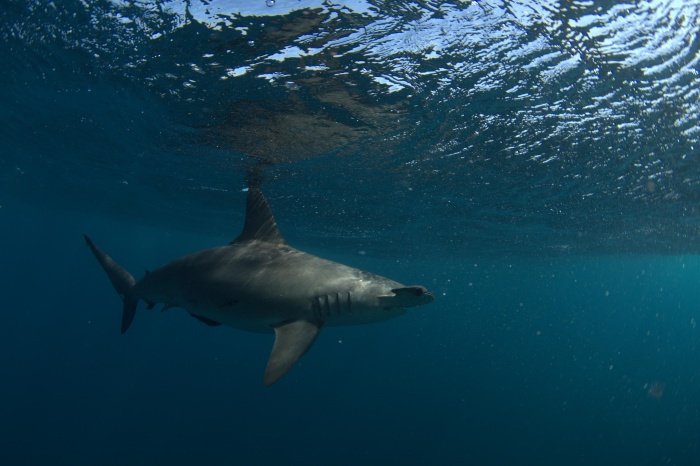Hammer: (70, 183, 452, 389)
